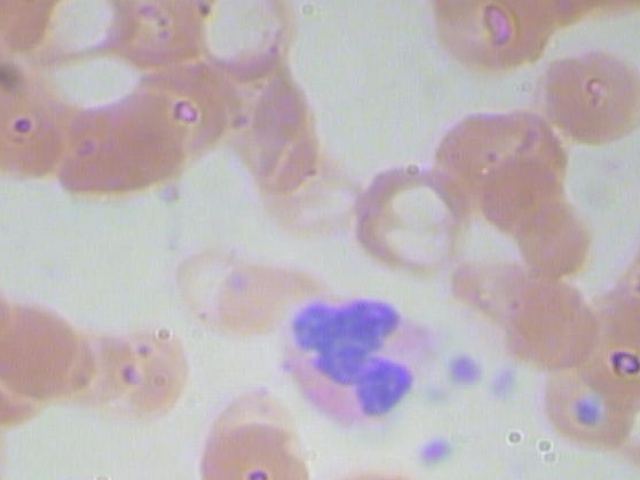Platelets: (442, 343, 485, 392), (413, 422, 456, 471), (485, 359, 528, 407)
RBC: (40, 78, 224, 209), (345, 153, 469, 284), (426, 99, 550, 218), (434, 235, 558, 354), (530, 21, 640, 153), (482, 167, 605, 285), (492, 263, 615, 381), (0, 280, 105, 417), (92, 324, 216, 430), (533, 351, 640, 457), (170, 237, 290, 331), (254, 144, 374, 237), (39, 317, 130, 430), (183, 0, 303, 85), (420, 0, 557, 74), (198, 410, 318, 480), (0, 92, 75, 186), (0, 397, 12, 480), (0, 245, 3, 362)
WBC: (268, 289, 442, 437)
